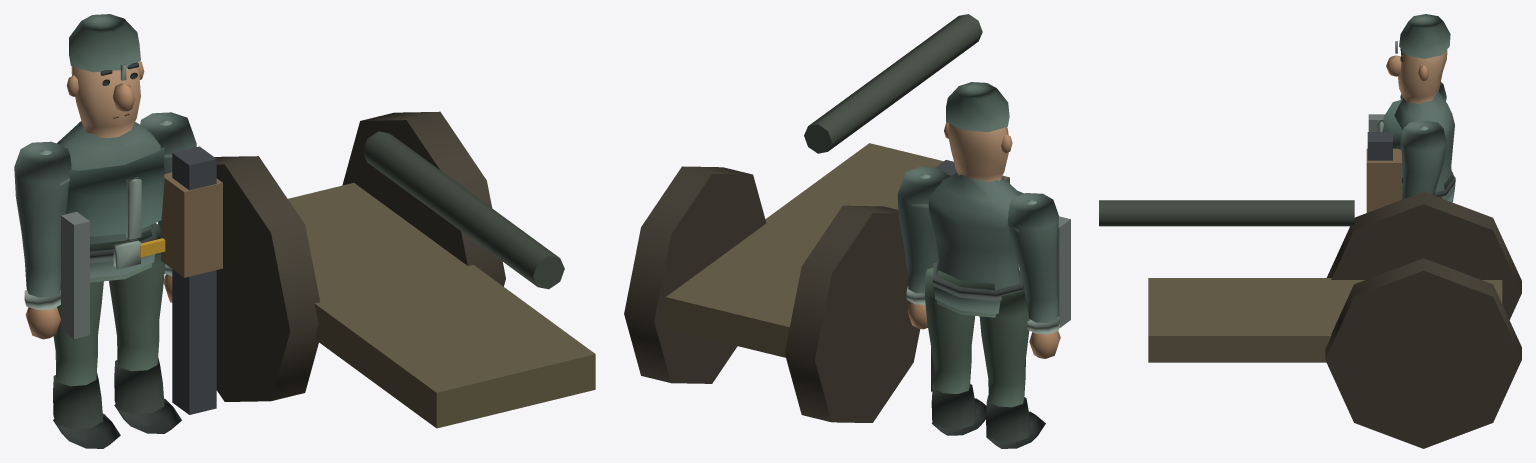
Rendered from machinegun_team_team3.glb.
3 views of the same model, side by side, from view 1: azimuth 30°, elevation 25°; view 2: azimuth 150°, elevation 25°; view 3: azimuth 270°, elevation 25° (orthographic). The views are drawn at different scales.
Visible parts, largest first — view 1: part_10, part_11, part_0, part_12, part_13, part_2, part_8, part_5, part_1, part_7, part_6, part_3 (+1 smaller); view 2: part_11, part_10, part_12, part_0, part_13, part_7, part_2, part_8, part_1, part_4, part_3; view 3: part_12, part_10, part_11, part_13, part_1, part_4, part_0, part_6, part_5.
Part boxes in pixels (left/top/right/bottom): part_10: left=288, top=183, right=595, bottom=428; part_11: left=214, top=156, right=320, bottom=401; part_0: left=57, top=121, right=164, bottom=282; part_12: left=342, top=111, right=505, bottom=286; part_13: left=362, top=131, right=564, bottom=289; part_2: left=14, top=141, right=71, bottom=339; part_8: left=109, top=224, right=181, bottom=433; part_5: left=172, top=146, right=216, bottom=414; part_1: left=66, top=14, right=144, bottom=137; part_7: left=53, top=281, right=120, bottom=448; part_6: left=161, top=172, right=222, bottom=277; part_3: left=61, top=211, right=89, bottom=338; part_11: left=784, top=205, right=920, bottom=422; part_10: left=665, top=143, right=1009, bottom=357; part_12: left=624, top=166, right=766, bottom=383; part_0: left=928, top=172, right=1023, bottom=317; part_13: left=804, top=14, right=982, bottom=153; part_7: left=979, top=287, right=1045, bottom=448; part_2: left=1007, top=193, right=1060, bottom=358; part_8: left=925, top=267, right=986, bottom=435; part_1: left=944, top=82, right=1012, bottom=182; part_4: left=897, top=167, right=947, bottom=329; part_3: left=1057, top=216, right=1070, bottom=328; part_12: left=1325, top=258, right=1521, bottom=448; part_10: left=1148, top=278, right=1502, bottom=362; part_11: left=1326, top=191, right=1521, bottom=319; part_13: left=1099, top=200, right=1354, bottom=226; part_1: left=1386, top=14, right=1450, bottom=104; part_4: left=1400, top=120, right=1446, bottom=199; part_0: left=1377, top=91, right=1455, bottom=202; part_6: left=1366, top=148, right=1401, bottom=212; part_5: left=1367, top=132, right=1392, bottom=160.
Size of the model in its own units: 1.86 by 1.71 by 2.15.
